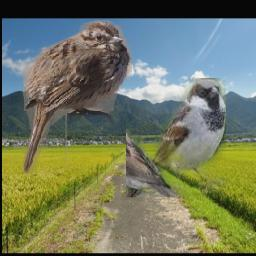Sparrow: (22, 21, 131, 174), (126, 78, 226, 197)
